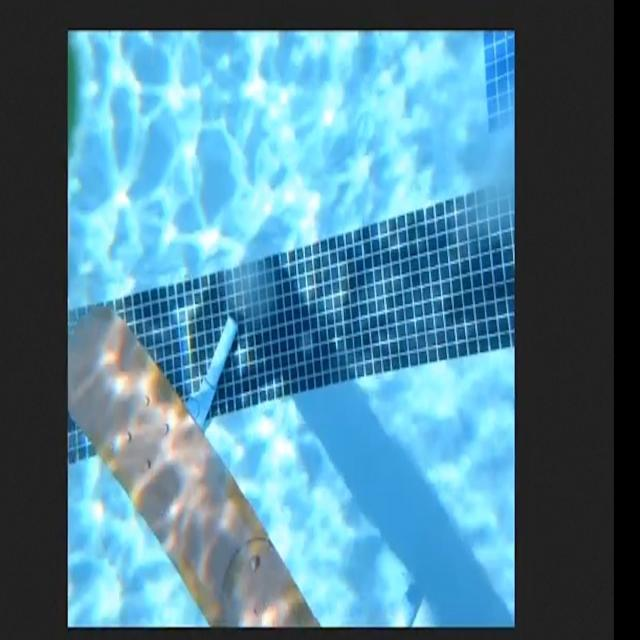Path: (69, 282, 323, 626)
